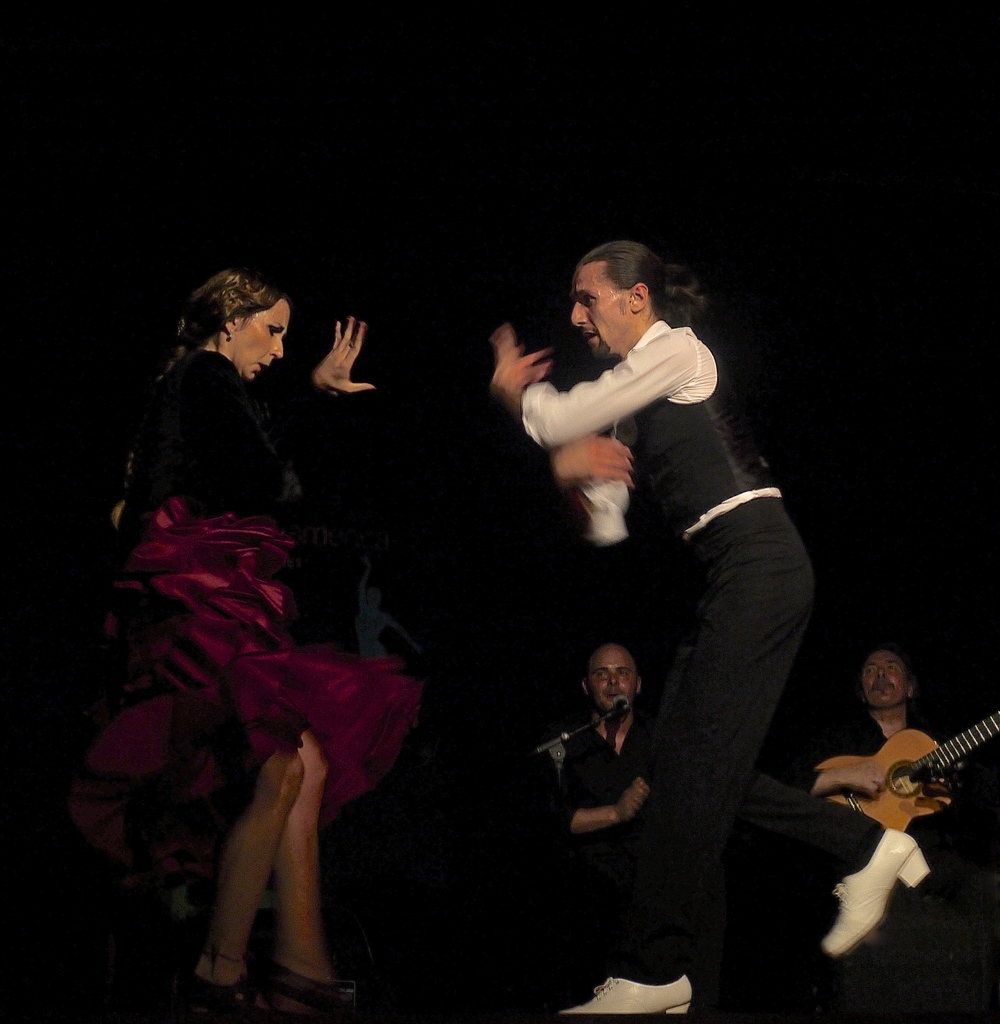Person: (65, 238, 1000, 1023)
